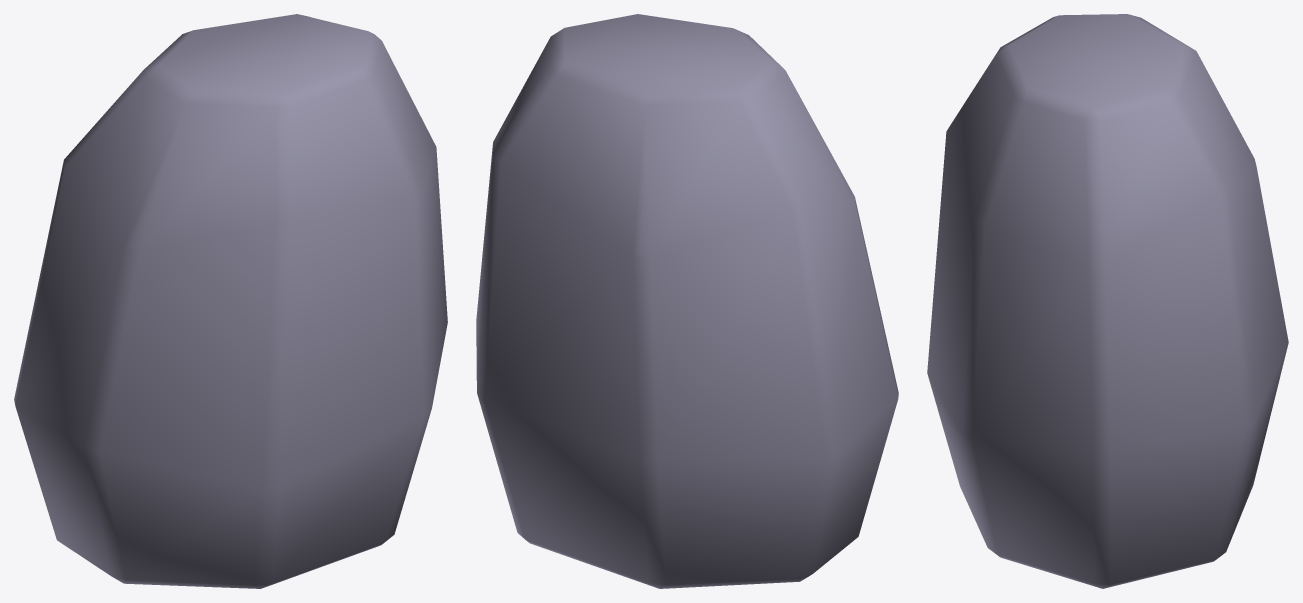
Rendered from rock_large_01.glb.
The picture shows the model from 3 angles, left to right: view 1: azimuth 30°, elevation 25°; view 2: azimuth 150°, elevation 25°; view 3: azimuth 270°, elevation 25°; orthographic projection.
Visible parts, largest first — view 1: rock_large_01; view 2: rock_large_01; view 3: rock_large_01.
Boxes of the visible parts, x1,y1,x2,y2 form: rock_large_01: (14, 14, 447, 588); rock_large_01: (476, 14, 898, 588); rock_large_01: (927, 14, 1288, 588).
Bounding box in the file's own units: 1.19 × 1.35 × 0.948.
